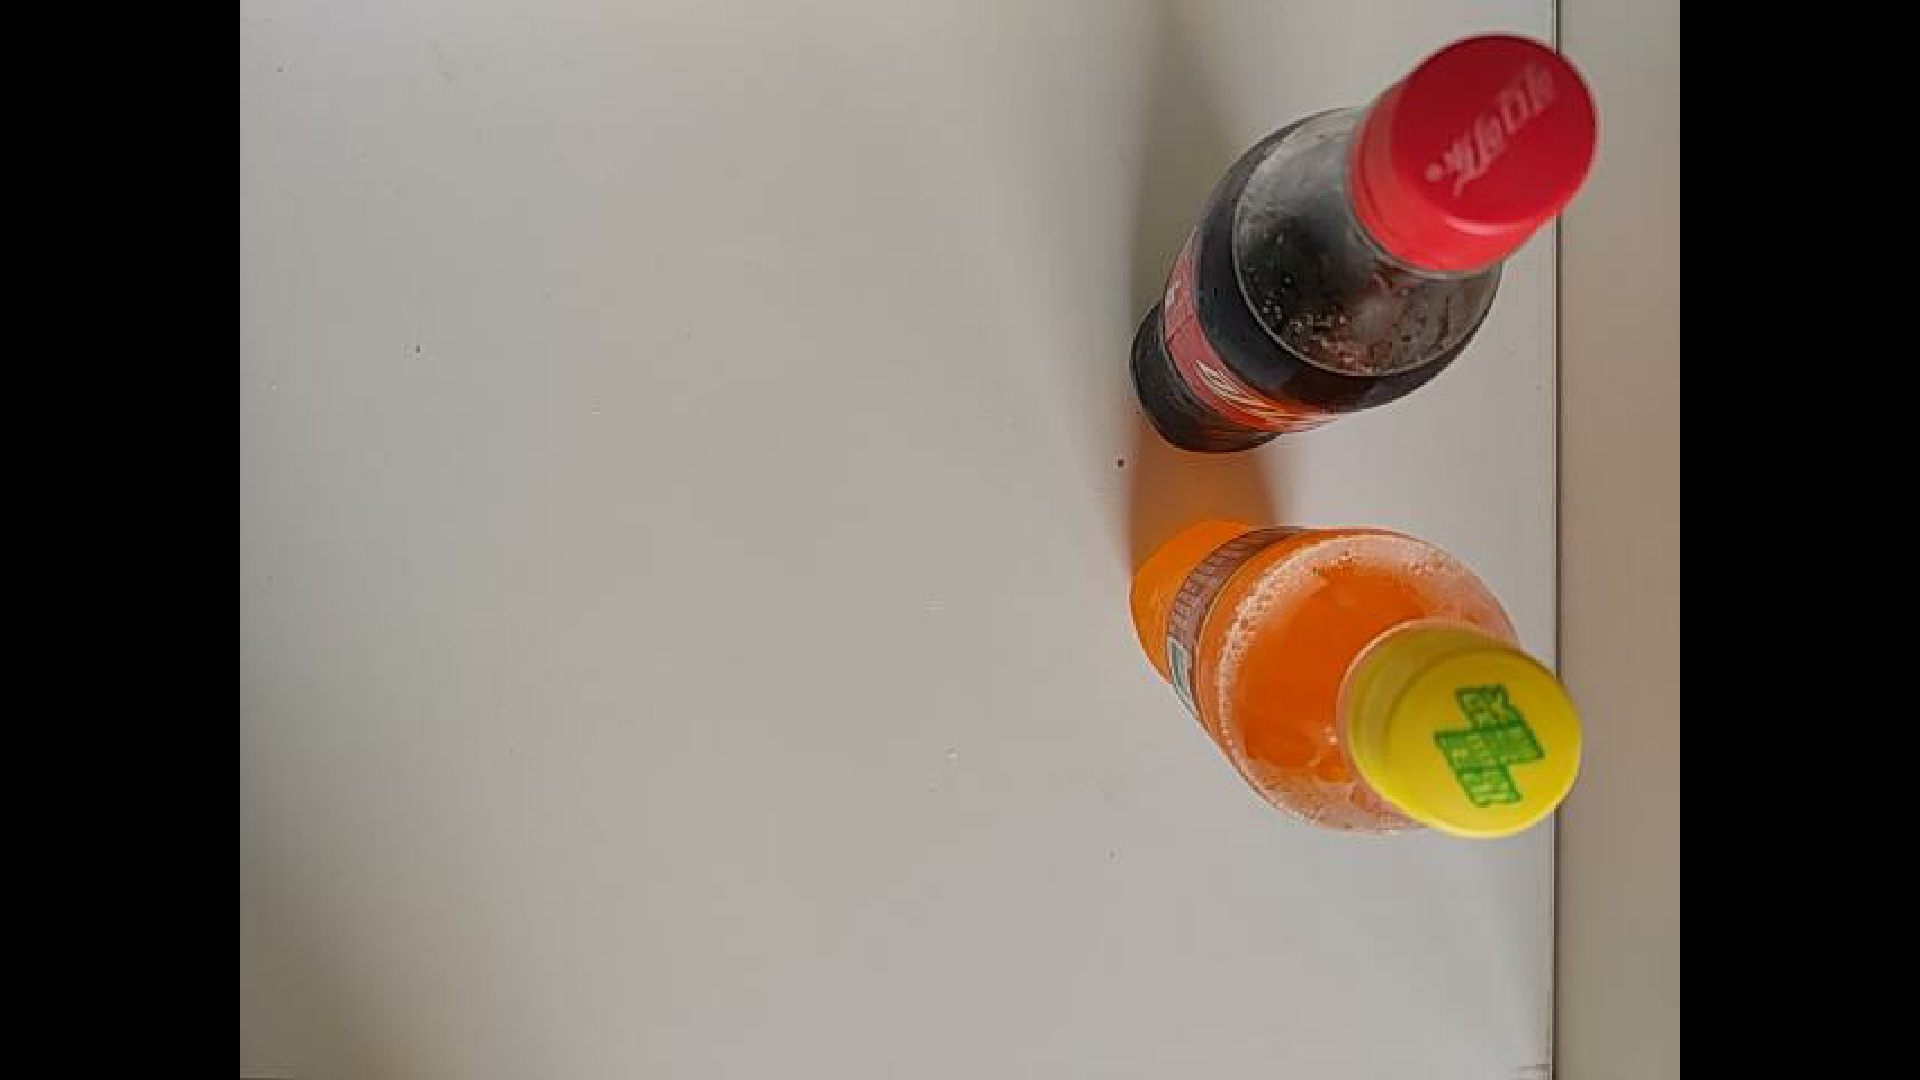cola: (1126, 32, 1600, 455)
fenta: (1126, 514, 1589, 845)
